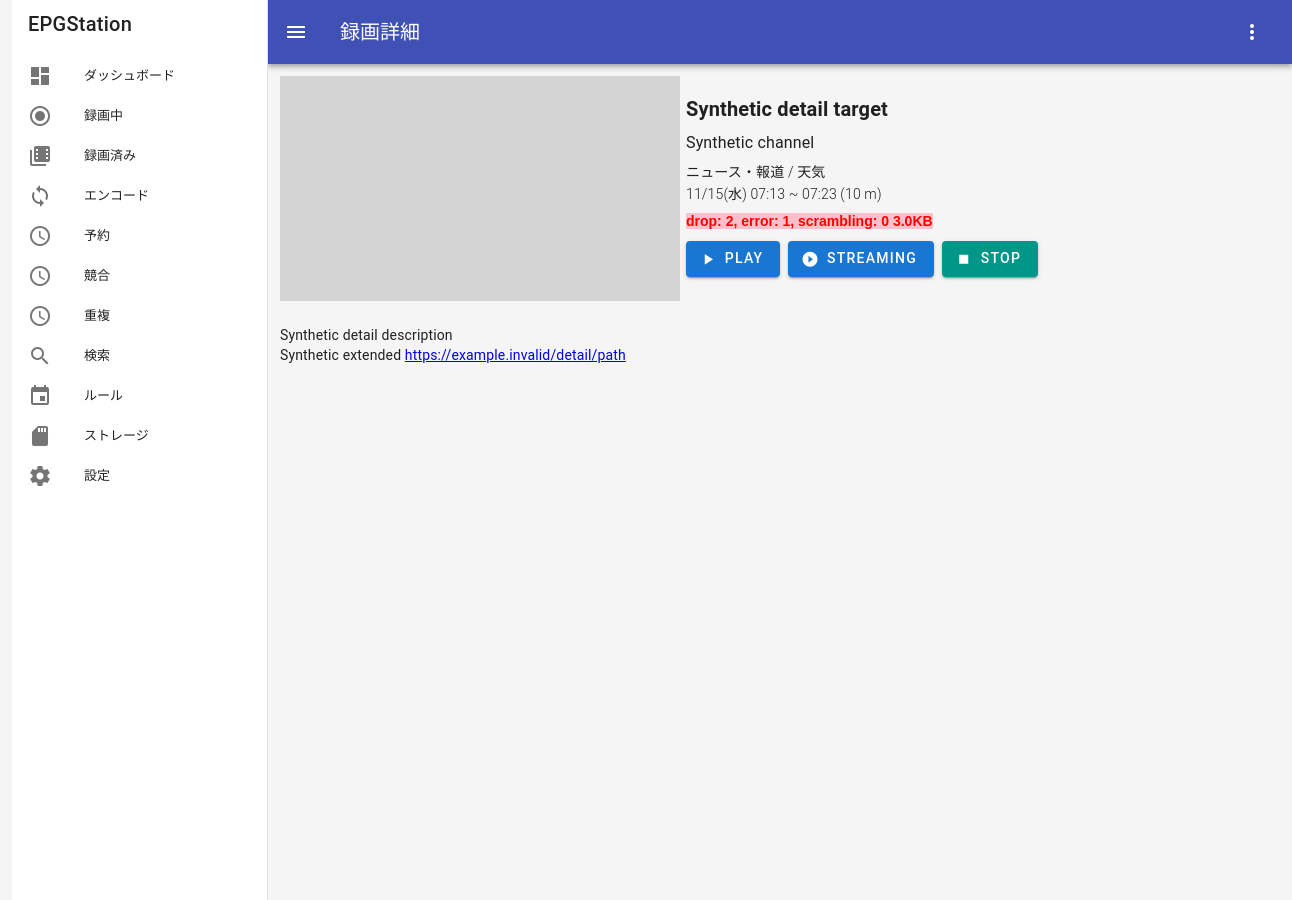
Scenario: Recorded detail streaming availability › [AC 3.35] excludes ts video files when recorded ts stream config is absent
The image size is (1292, 900).
Expected: the element with test id "recorded-detail-page" is shown, [280, 76, 1038, 363]
Click the button "streaming" at [861, 258], box [788, 240, 934, 276]
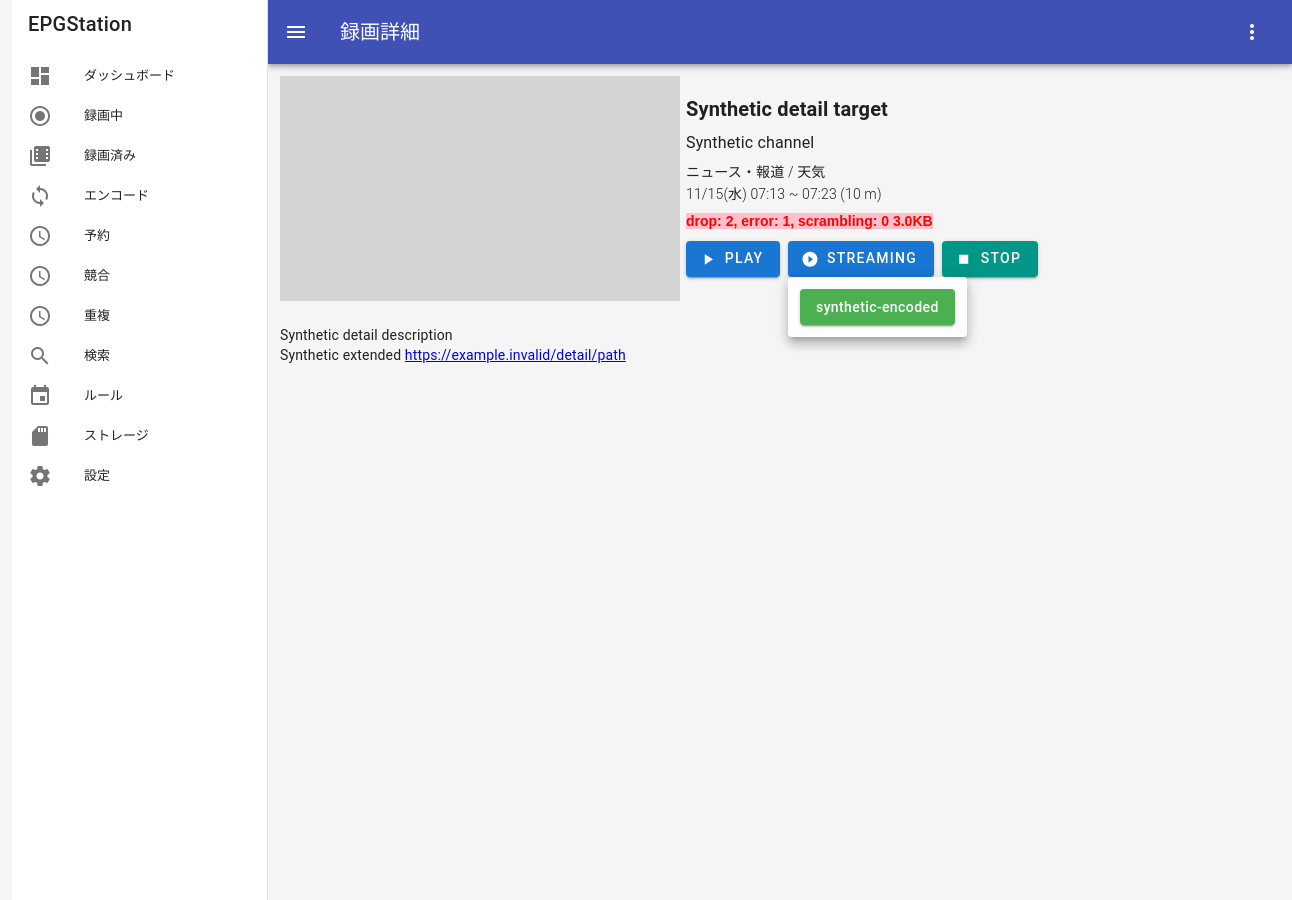
Expected: the button "synthetic-encoded" is shown, [800, 289, 955, 325]
